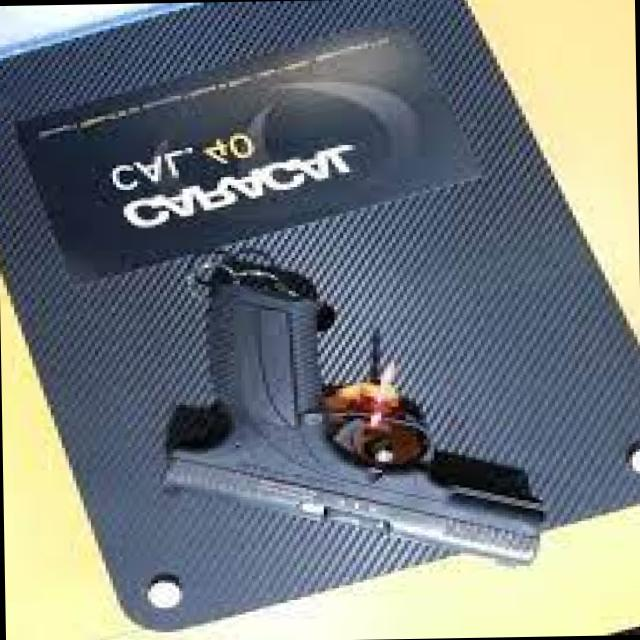Gun: (109, 235, 567, 600)
